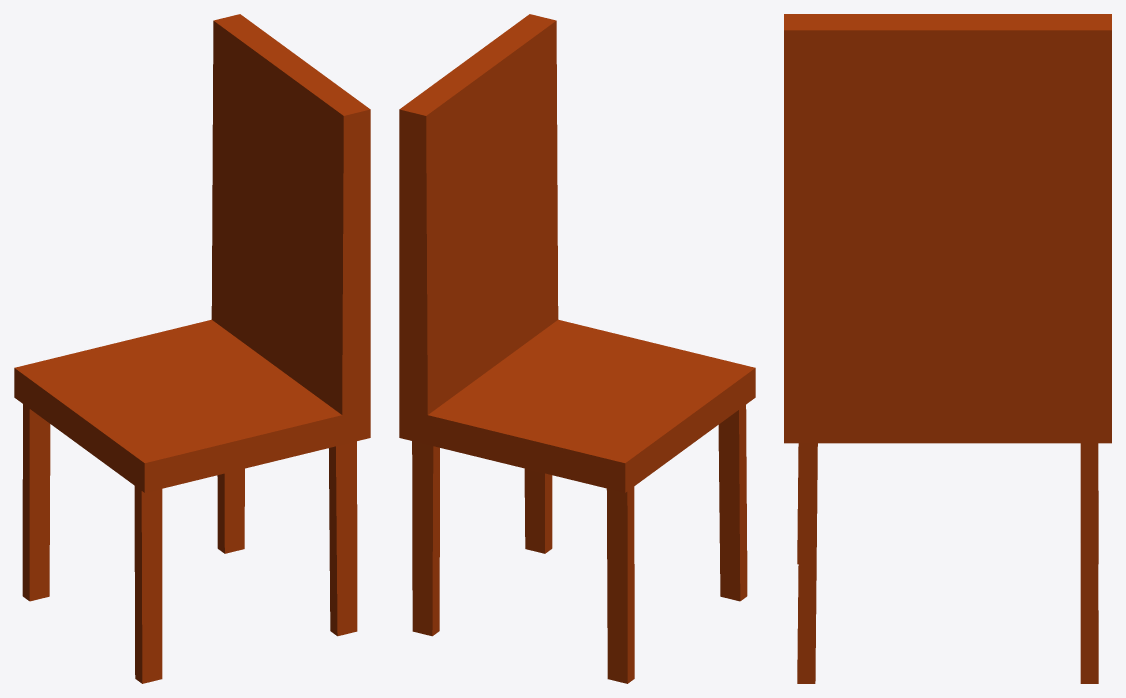
The model's file is Chair.fbx.
3 views of the same model, side by side, from view 1: azimuth 30°, elevation 25°; view 2: azimuth 150°, elevation 25°; view 3: azimuth 270°, elevation 25° (orthographic). The views are drawn at different scales.
Visible parts, largest first — view 1: Chair; view 2: Chair; view 3: Chair.
Boxes of the visible parts, x1,y1,x2,y2 form: Chair: [14, 14, 370, 683]; Chair: [399, 14, 755, 683]; Chair: [784, 14, 1111, 683].
Bounding box in the file's own units: 5.13 × 2.31 × 2.31.
